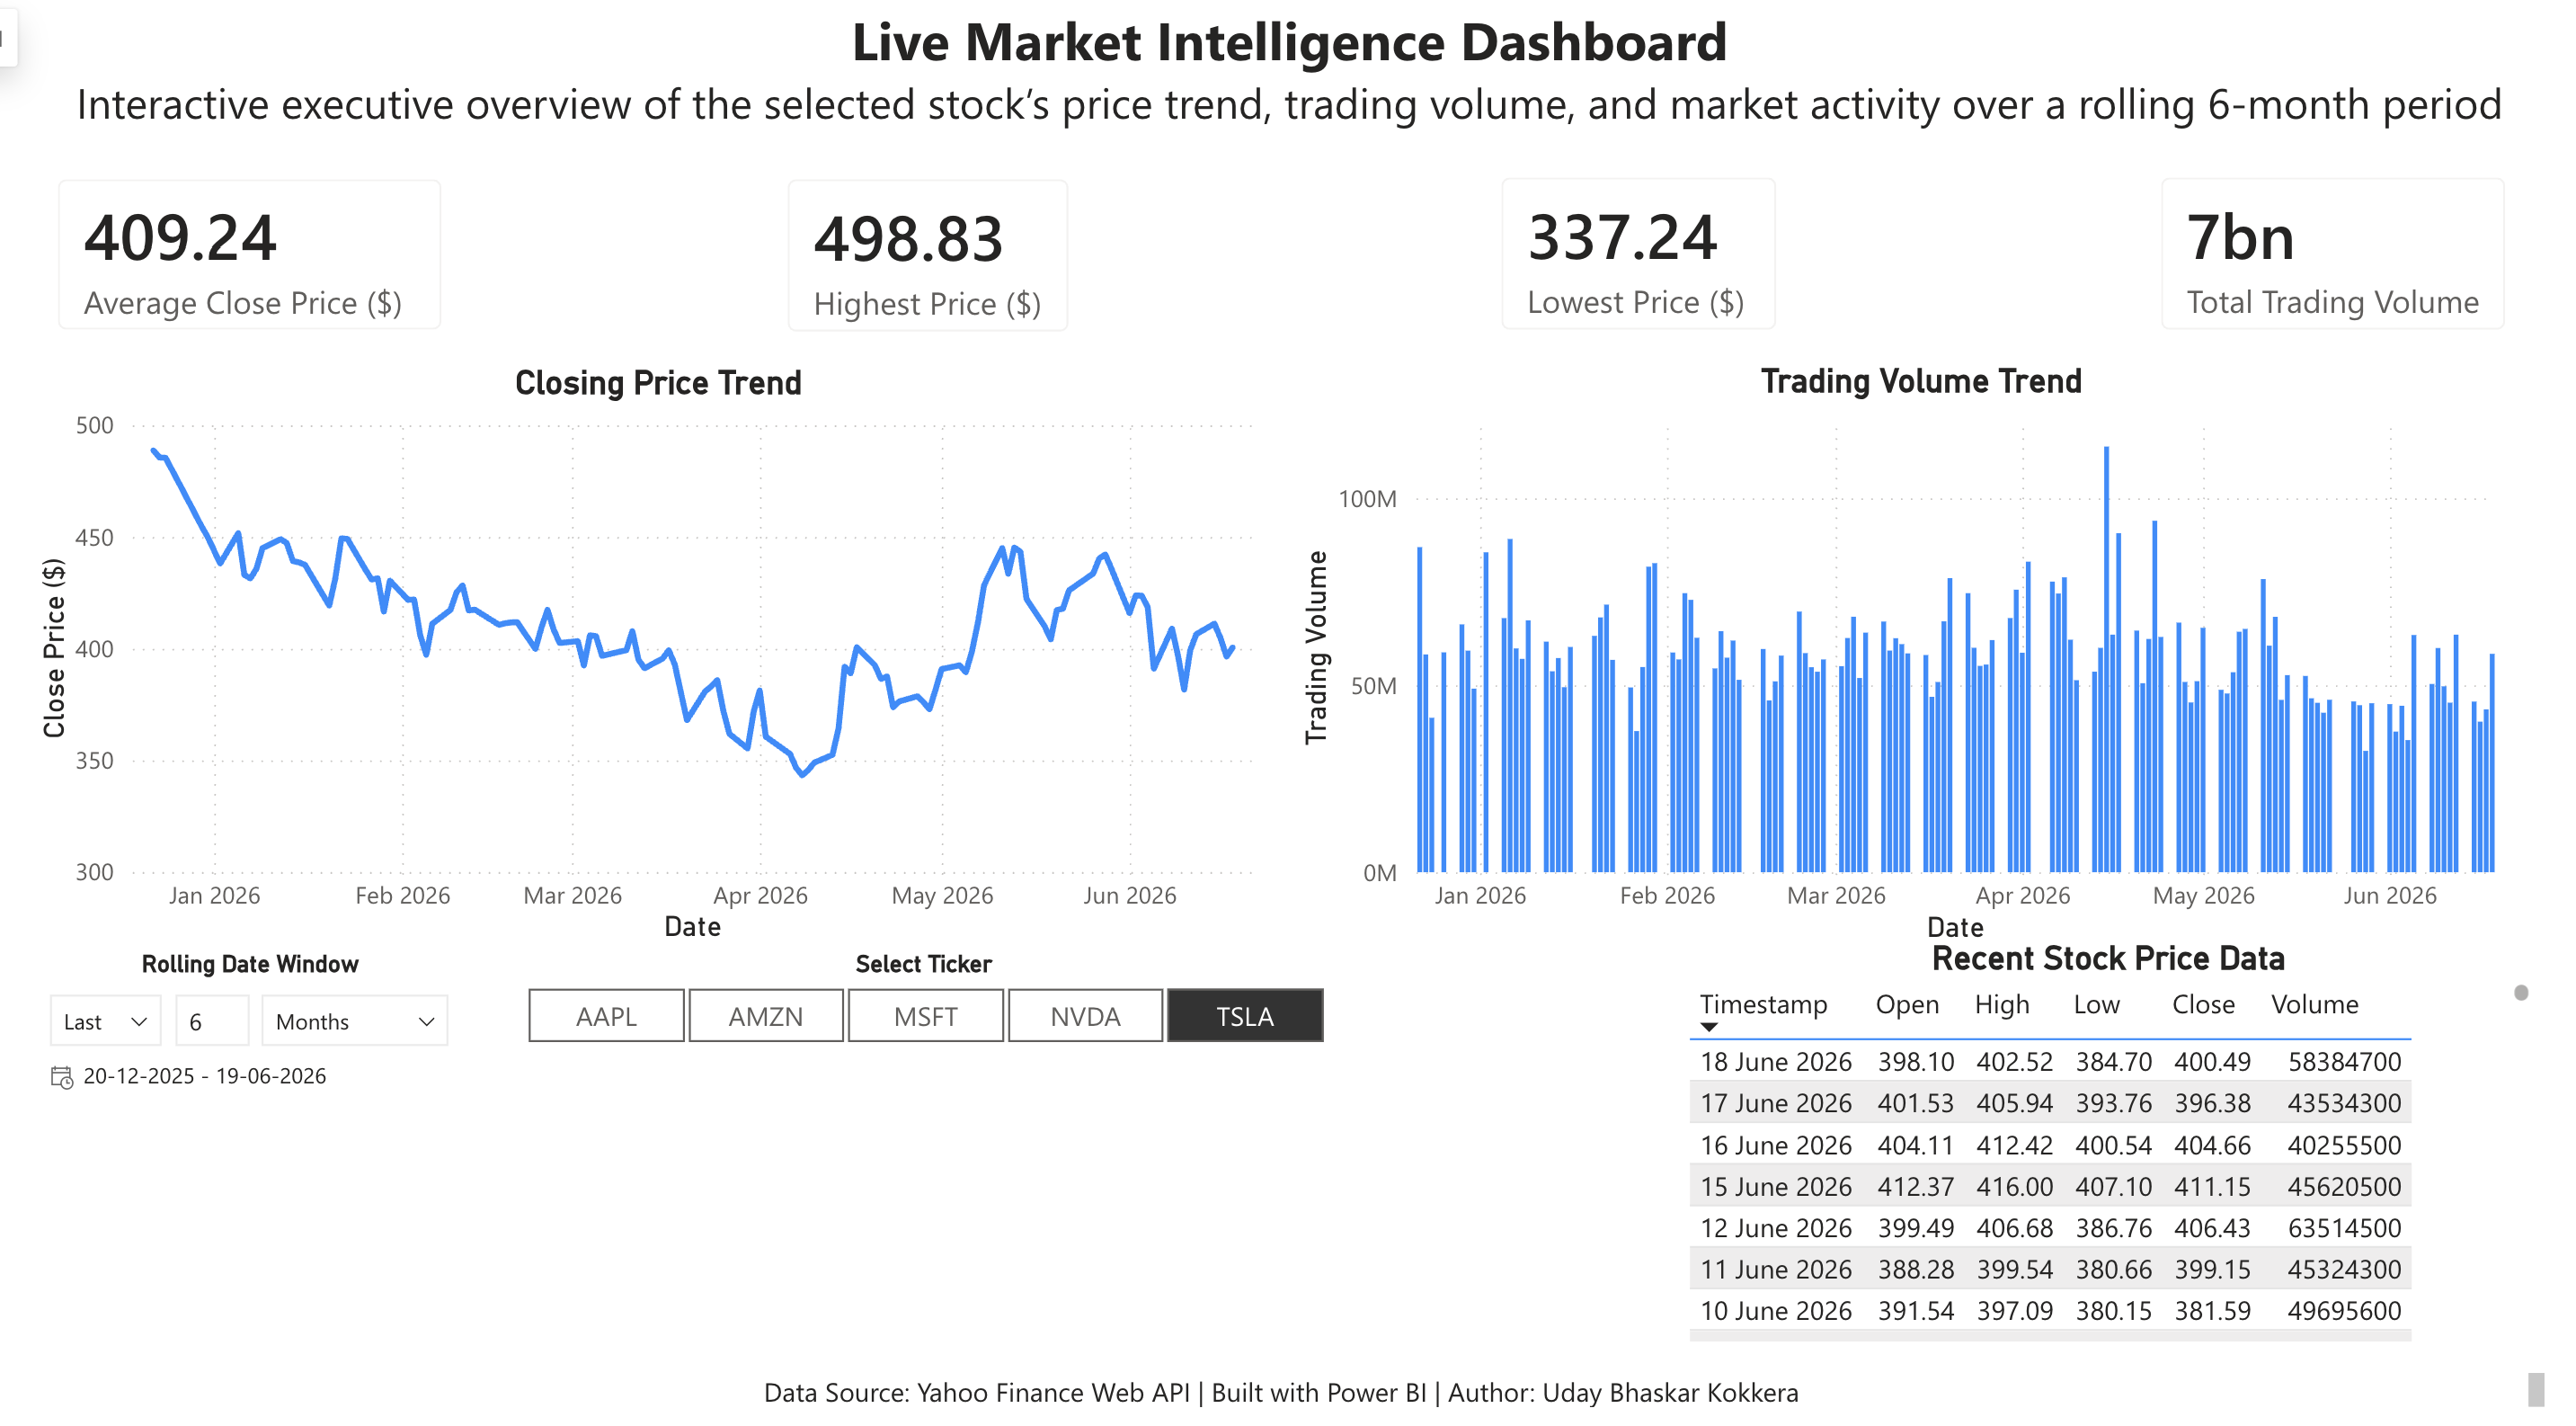

The page's visual inventory and layout, read from the dashboard file:
{"tool":"powerbi","page":{"name":"Executive Overview","canvas":[1280,720],"ordinal":0},"visuals":[{"type":"lineChart","title":"Closing Price Trend","fields":{"Category":["Stock_Prices.timestamp"],"Y":["Avg(Stock_Prices.close)"]},"box":[2.1,189.3,638.3,295.9],"z":0},{"type":"clusteredColumnChart","title":"Trading Volume Trend","fields":{"Category":["Stock_Prices.timestamp"],"Y":["Sum(Stock_Prices.volume)"]},"box":[640.3,188.3,639.3,296.9],"z":1000},{"type":"textbox","box":[0,0,1280,78],"z":2000},{"type":"slicer","title":"Rolling Date Window","fields":{"Values":["Stock_Prices.timestamp"]},"box":[0,485.6,228.8,97.5],"z":3000},{"type":"slicer","title":"Select Ticker","fields":{"Values":["Stock_Prices.Ticker"]},"box":[228.8,485.6,451.9,48.8],"z":4000},{"type":"tableEx","title":"Recent Stock Price Data","fields":{"Values":["Stock_Prices.timestamp","Avg(Stock_Prices.open)","Avg(Stock_Prices.high)","Avg(Stock_Prices.low)","Avg(Stock_Prices.close)","Sum(Stock_Prices.volume)"]},"box":[836.2,480,435.9,206.2],"z":5000},{"type":"cardVisual","fields":{"Data":["Avg(Stock_Prices.close)"]},"box":[0,77.6,228.6,110.7],"z":6000},{"type":"cardVisual","title":"Highest","fields":{"Data":["Max(Stock_Prices.high)"]},"box":[369.3,77.6,176.9,111.7],"z":7000},{"type":"cardVisual","fields":{"Data":["Min(Stock_Prices.low)"]},"box":[730.3,76.6,173.8,111.7],"z":8000},{"type":"cardVisual","fields":{"Data":["Sum(Stock_Prices.volume)"]},"box":[1063.4,76.6,209,111.7],"z":9000},{"type":"textbox","box":[0,693.1,1279.7,26.9],"z":10000}]}

Visuals, with their boxes in screenshot pixels (x1, y1, x2, y2), scaled from the page's 1280x720 canvas onto the 2576x1426 screenshot:
"Closing Price Trend" lineChart: 4 375 1289 961
"Trading Volume Trend" clusteredColumnChart: 1289 373 2575 961
textbox: 0 0 2575 155
"Rolling Date Window" slicer: 0 962 460 1154
"Select Ticker" slicer: 460 962 1370 1058
"Recent Stock Price Data" tableEx: 1683 950 2560 1359
cardVisual - Avg(Stock_Prices.close): 0 154 460 373
"Highest" cardVisual: 743 154 1099 375
cardVisual - Min(Stock_Prices.low): 1470 152 1819 373
cardVisual - Sum(Stock_Prices.volume): 2140 152 2561 373
textbox: 0 1373 2575 1425
